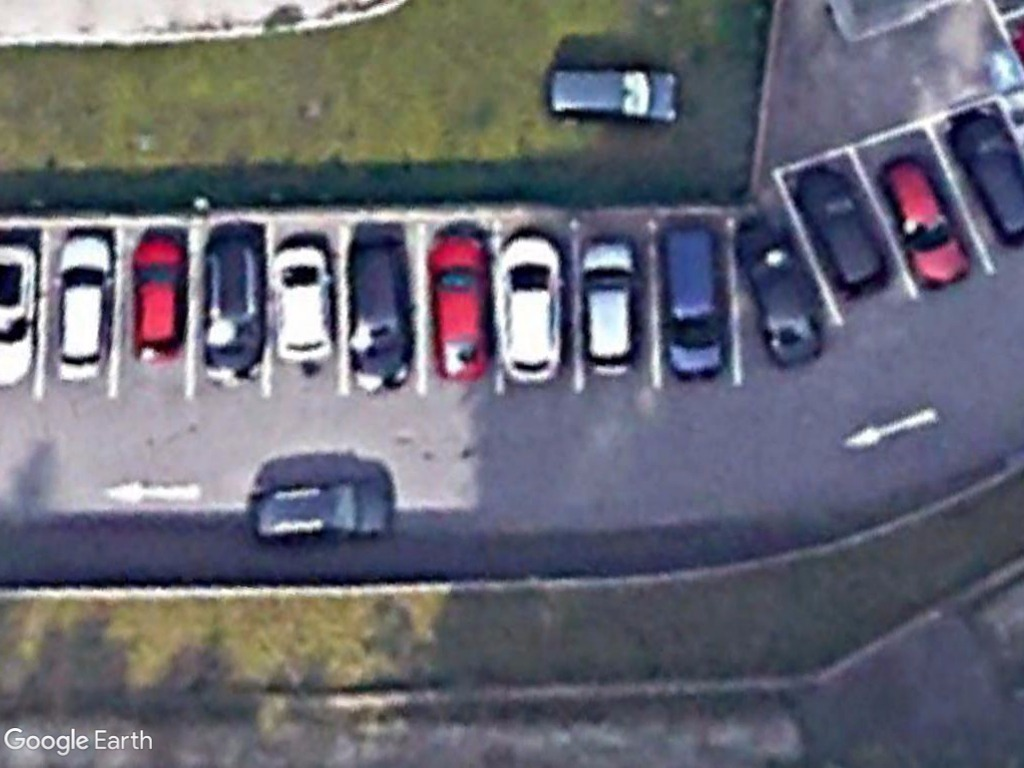car: (879, 150, 978, 297), (793, 160, 893, 300), (734, 219, 825, 372), (419, 227, 498, 386), (341, 233, 417, 398), (490, 227, 568, 386), (45, 227, 119, 386), (242, 473, 398, 546), (201, 226, 267, 386), (577, 229, 645, 384), (543, 59, 686, 129), (122, 227, 192, 365), (268, 239, 336, 370)
van: (655, 219, 730, 386)
